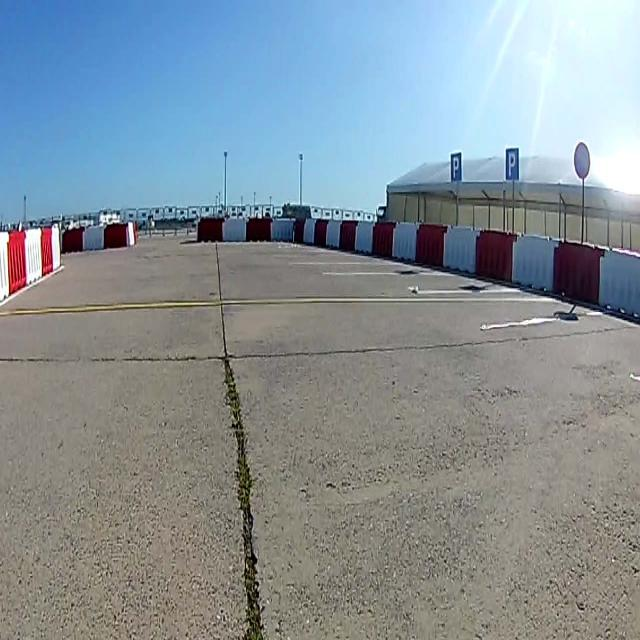park: (506, 148, 520, 178), (451, 153, 462, 179)
